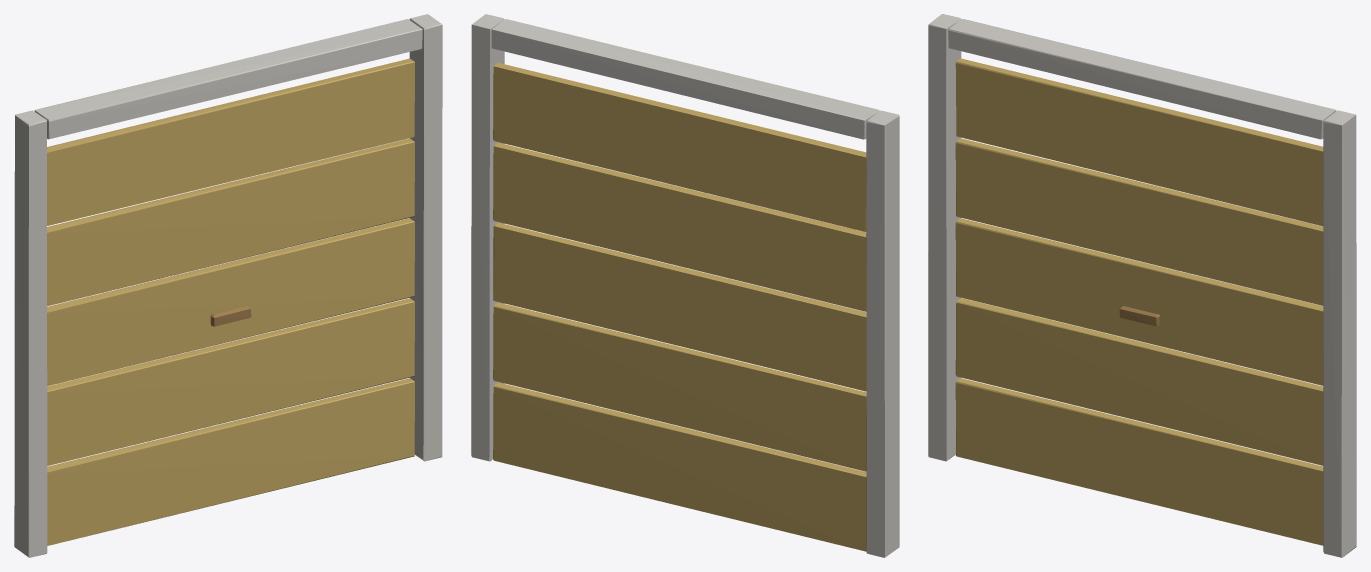
The model's file is SM_Kit_Door_Garage_250_LOD2.glb.
The picture shows the model from 3 angles, left to right: view 1: azimuth 30°, elevation 25°; view 2: azimuth 150°, elevation 25°; view 3: azimuth 330°, elevation 25°; orthographic projection.
Visible parts, largest first — view 1: SM_Kit_Door_Garage_250_LOD2; view 2: SM_Kit_Door_Garage_250_LOD2; view 3: SM_Kit_Door_Garage_250_LOD2.
Boxes of the visible parts, x1=… form: SM_Kit_Door_Garage_250_LOD2: x1=14, y1=14, x2=442, y2=557; SM_Kit_Door_Garage_250_LOD2: x1=471, y1=14, x2=899, y2=557; SM_Kit_Door_Garage_250_LOD2: x1=928, y1=14, x2=1356, y2=557.
Size of the model in its own units: 2.49 by 2.49 by 0.1536.
